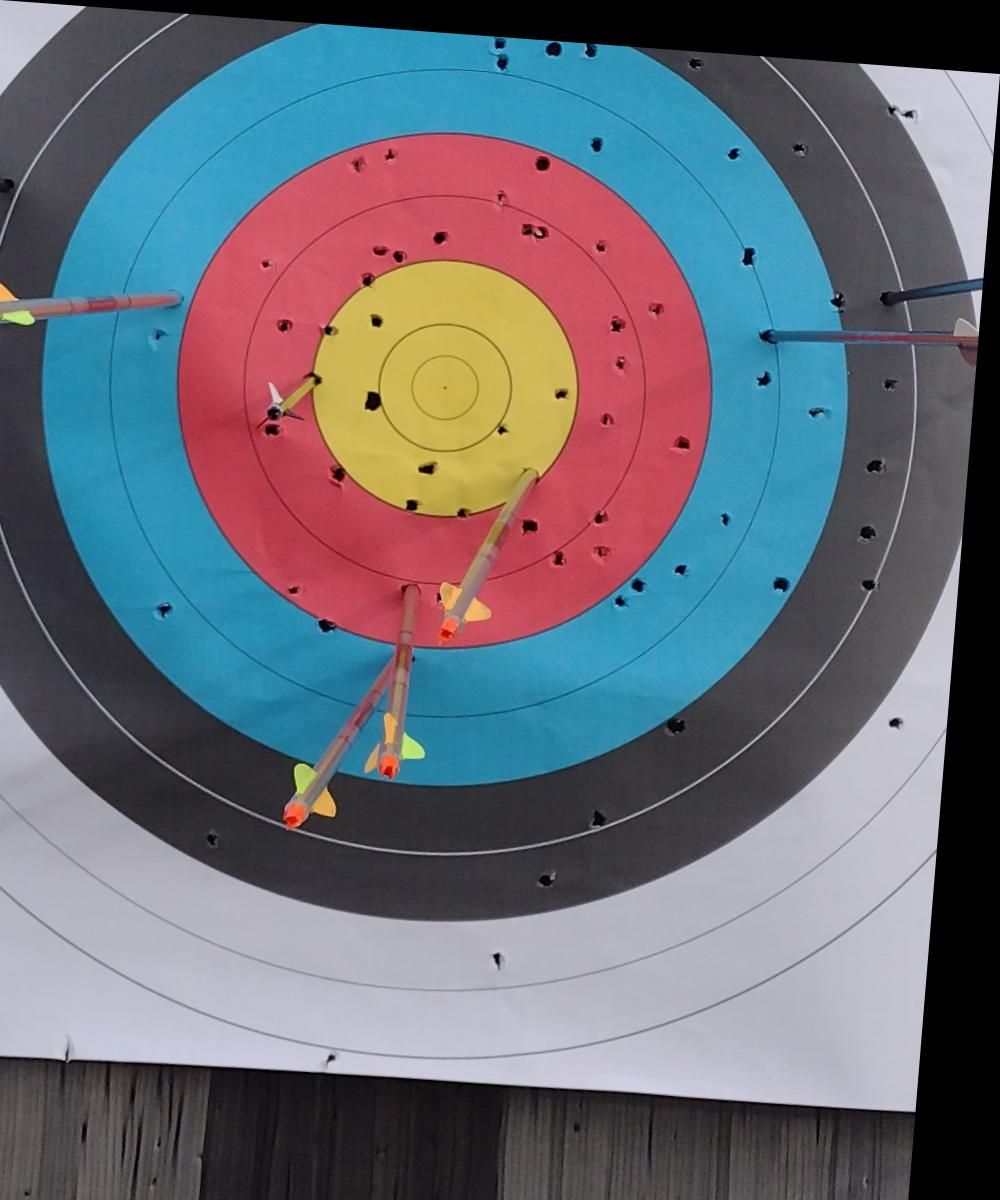10-Ring: (382, 314, 521, 448)
2-Ring: (0, 0, 999, 1015)
3-Ring: (0, 0, 998, 945)
4-Ring: (0, 1, 942, 872)
5-Ring: (27, 4, 874, 799)
6-Ring: (95, 44, 802, 728)
7-Ring: (146, 89, 754, 681)
8-Ring: (233, 171, 667, 595)
9-Ring: (269, 199, 634, 565)
Arrow: (285, 619, 421, 837), (435, 447, 546, 646), (377, 578, 470, 777), (769, 288, 985, 352), (0, 280, 186, 327), (256, 368, 330, 423), (888, 263, 989, 290)
